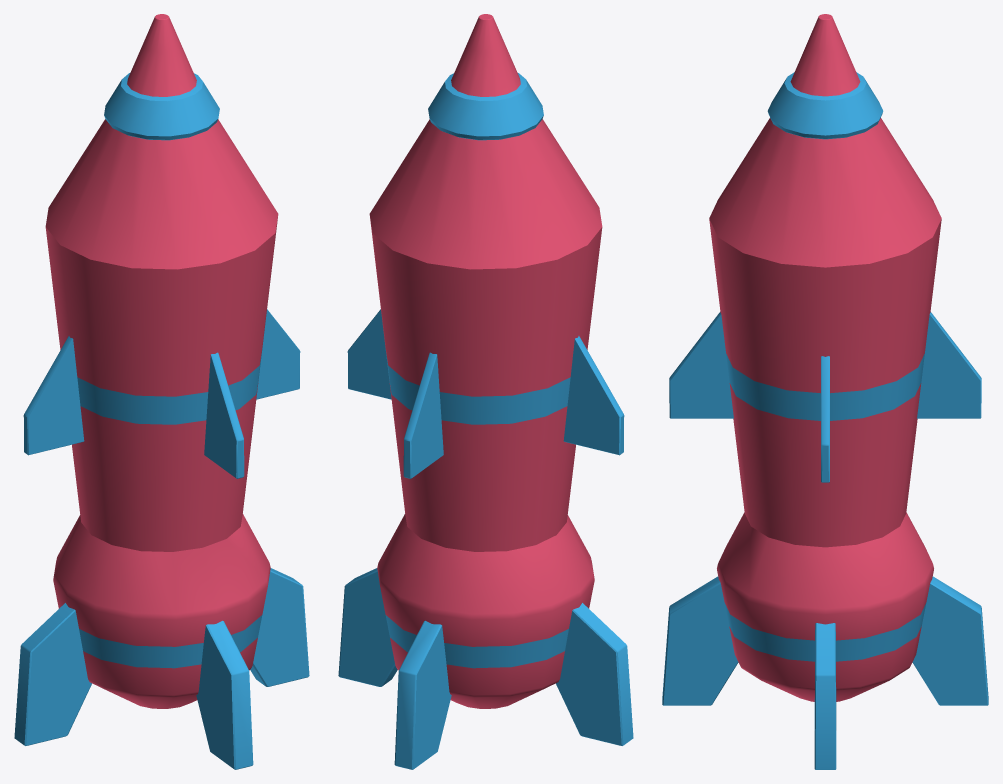
File: Bomb_6.fbx
3 renders of one model, left to right at view 1: azimuth 30°, elevation 25°; view 2: azimuth 150°, elevation 25°; view 3: azimuth 270°, elevation 25°, orthographic.
Parts seen in each view (by area): view 1: Body_Lv6, Motor_Lv6, Head_Lv6; view 2: Body_Lv6, Motor_Lv6, Head_Lv6; view 3: Body_Lv6, Motor_Lv6, Head_Lv6.
Boxes of the visible parts, bbox=[...] form: Body_Lv6: bbox=[23, 217, 300, 551]; Motor_Lv6: bbox=[14, 514, 309, 769]; Head_Lv6: bbox=[45, 14, 278, 269]; Body_Lv6: bbox=[347, 217, 624, 551]; Motor_Lv6: bbox=[338, 514, 633, 769]; Head_Lv6: bbox=[369, 14, 602, 269]; Body_Lv6: bbox=[669, 219, 981, 547]; Motor_Lv6: bbox=[662, 512, 988, 769]; Head_Lv6: bbox=[709, 14, 941, 267].
Bounding box in the file's own units: 3 × 6.95 × 3.
